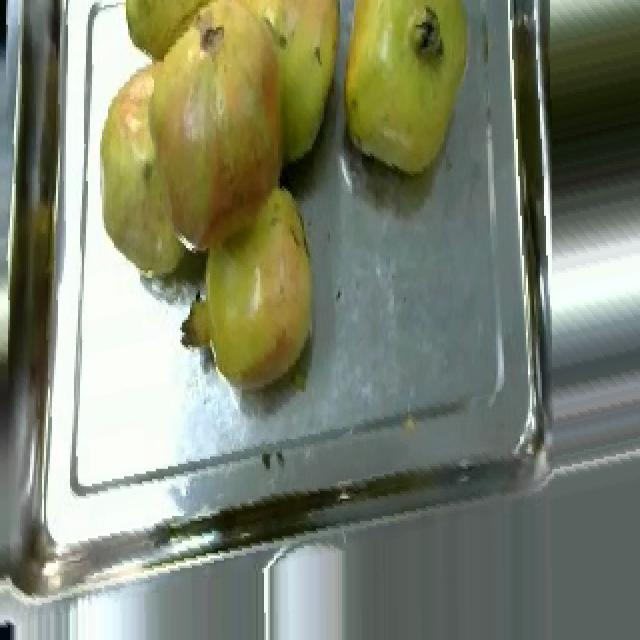fruit: (162, 168, 336, 412), (342, 0, 480, 114)
